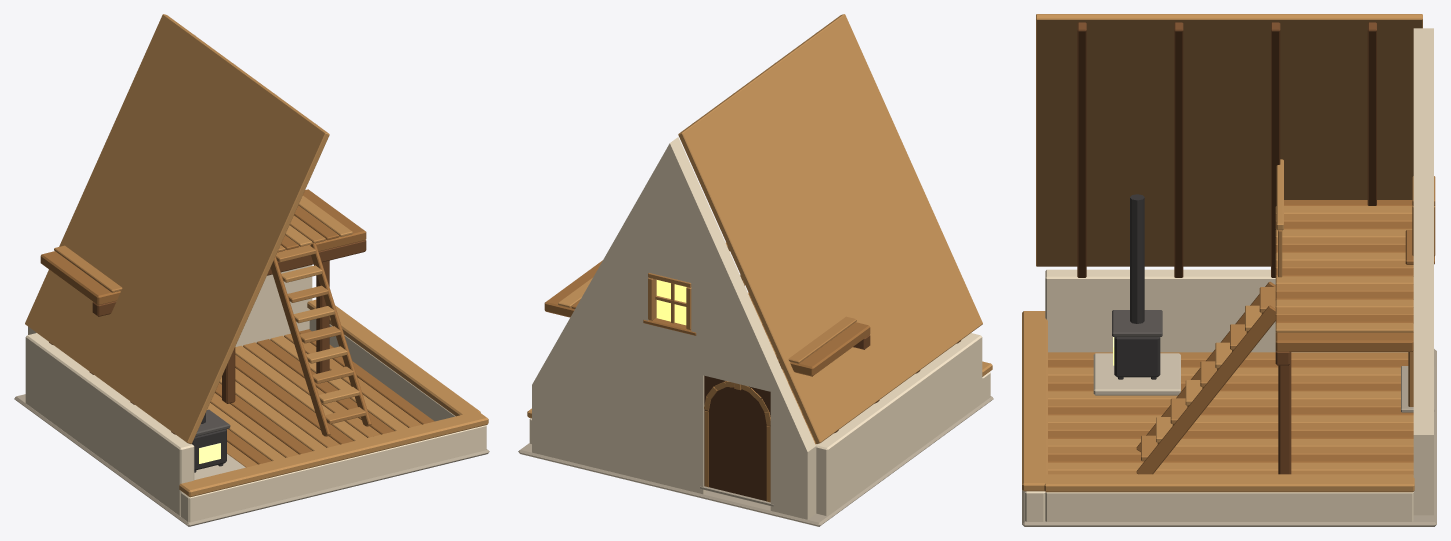
File: aframe_cabin_interior.glb
The picture shows the model from 3 angles, left to right: view 1: azimuth 30°, elevation 25°; view 2: azimuth 150°, elevation 25°; view 3: azimuth 270°, elevation 25°; orthographic projection. The views are drawn at different scales.
Visible parts, largest first — view 1: aframe_cabin_interior; view 2: aframe_cabin_interior; view 3: aframe_cabin_interior.
Part boxes in pixels (x1,y1,x2,y2): aframe_cabin_interior: (14,14,489,526); aframe_cabin_interior: (518,14,993,526); aframe_cabin_interior: (1022,14,1436,526).
Size of the model in its own units: 4.5 by 5.05 by 4.5.
